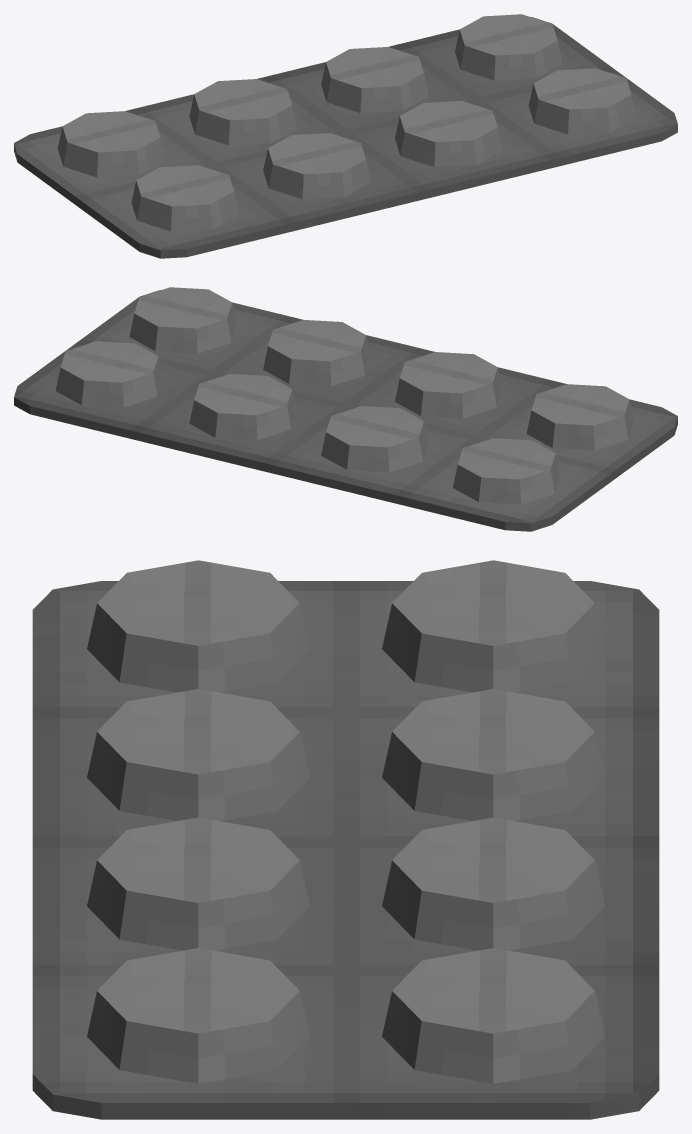
The model's file is blender_sanity_medication_1.glb.
3 views of the same model, one above another, from view 1: azimuth 30°, elevation 25°; view 2: azimuth 150°, elevation 25°; view 3: azimuth 270°, elevation 25° (orthographic). The views are drawn at different scales.
Parts seen in each view (by area): view 1: blender_sanity_medication_1; view 2: blender_sanity_medication_1; view 3: blender_sanity_medication_1.
Boxes of the visible parts, x1,y1,x2,y2 form: blender_sanity_medication_1: (14, 14, 677, 258); blender_sanity_medication_1: (14, 287, 677, 531); blender_sanity_medication_1: (32, 560, 659, 1119).
Bounding box in the file's own units: 0.134 × 0.0075 × 0.068.
Materials: 2 (2 with a texture image).
